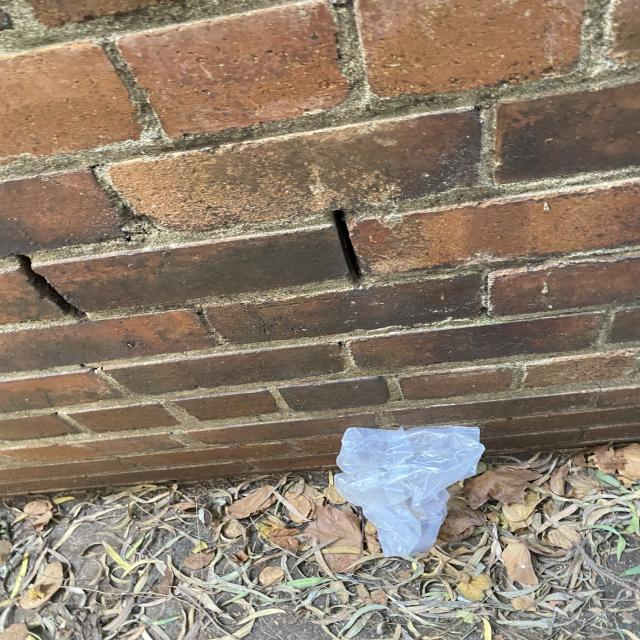bag: (335, 427, 485, 557)
